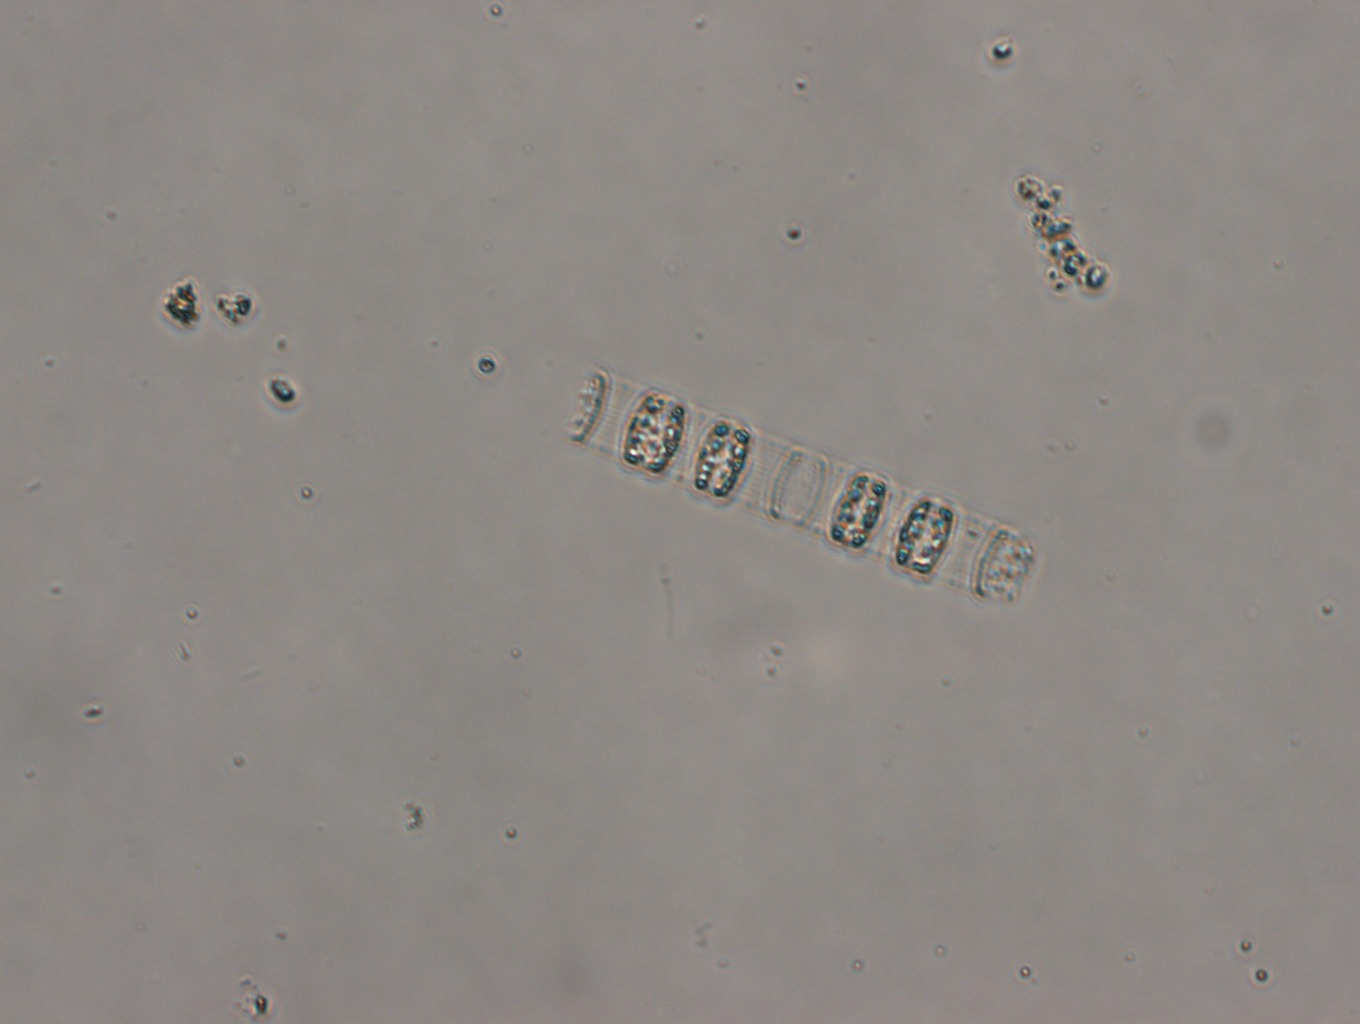skeletonema: (564, 362, 1037, 605)
